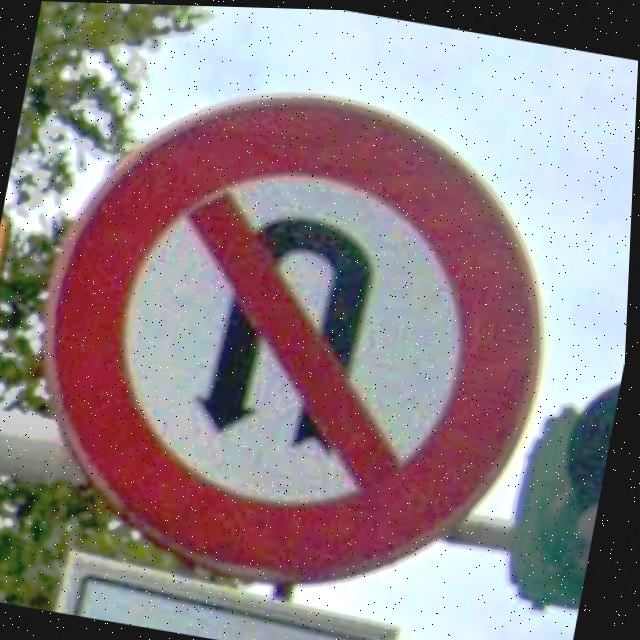nouturn: (53, 100, 542, 580)
